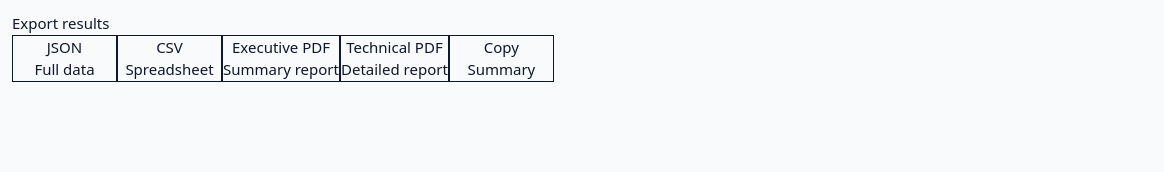
Scenario: ExportPanel — PDF › shows a non-JSON error body as text
Click the button "Technical PDF Detailed report" at (394, 58), box [340,34,449,82]
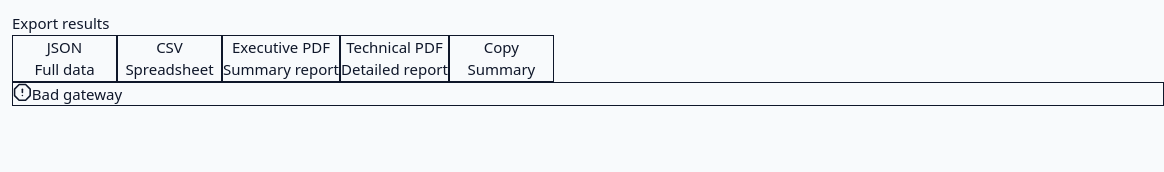
expect the text "Bad gateway" is shown: met, box [32,84,122,104]
